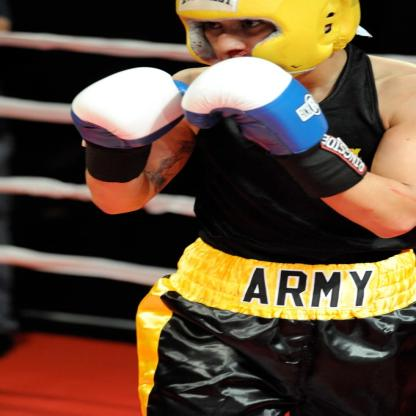Helmet: (164, 0, 357, 72)
